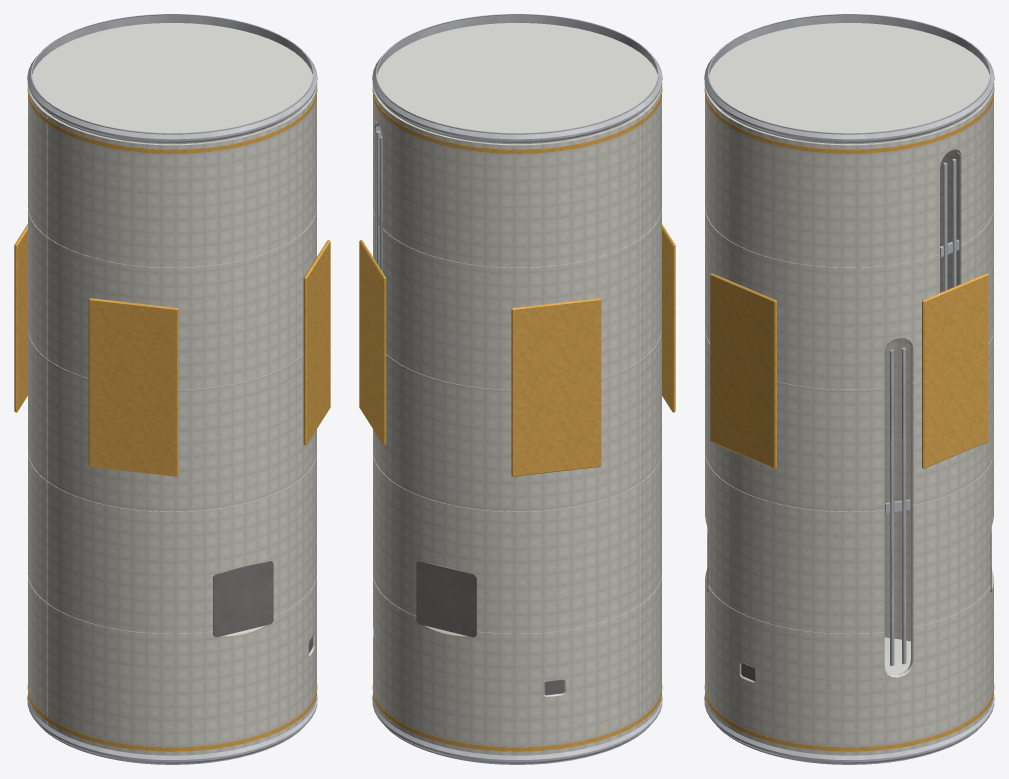
The model's file is ax_tank_10_depot_core.glb.
3 views of the same model, side by side, from view 1: azimuth 30°, elevation 25°; view 2: azimuth 150°, elevation 25°; view 3: azimuth 270°, elevation 25° (orthographic).
Parts seen in each view (by area): view 1: mli_blanket, dome_caps, sunshield_stowed, end_rings, cryocooler_bay_floors, blanket_bands; view 2: mli_blanket, dome_caps, sunshield_stowed, end_rings, cryocooler_bay_floors, blanket_bands, raceway_lines; view 3: mli_blanket, dome_caps, sunshield_stowed, end_rings, raceway_lines, blanket_bands.
Boxes of the visible parts, bbox=[...] form: mli_blanket: bbox=[28, 86, 316, 755]; dome_caps: bbox=[32, 23, 312, 143]; sunshield_stowed: bbox=[14, 224, 330, 476]; end_rings: bbox=[27, 14, 317, 764]; cryocooler_bay_floors: bbox=[213, 561, 273, 637]; blanket_bands: bbox=[27, 87, 317, 751]; mli_blanket: bbox=[373, 86, 661, 755]; dome_caps: bbox=[377, 23, 657, 143]; sunshield_stowed: bbox=[359, 224, 675, 476]; end_rings: bbox=[372, 14, 662, 764]; cryocooler_bay_floors: bbox=[416, 561, 476, 637]; blanket_bands: bbox=[372, 87, 662, 751]; raceway_lines: bbox=[376, 131, 382, 271]; mli_blanket: bbox=[705, 86, 993, 755]; dome_caps: bbox=[709, 23, 989, 674]; sunshield_stowed: bbox=[710, 273, 988, 468]; end_rings: bbox=[704, 14, 994, 764]; raceway_lines: bbox=[885, 158, 959, 665]; blanket_bands: bbox=[704, 87, 994, 751].
Bounding box in the file's own units: 5 × 12 × 5.
5 materials, 4 textured.
